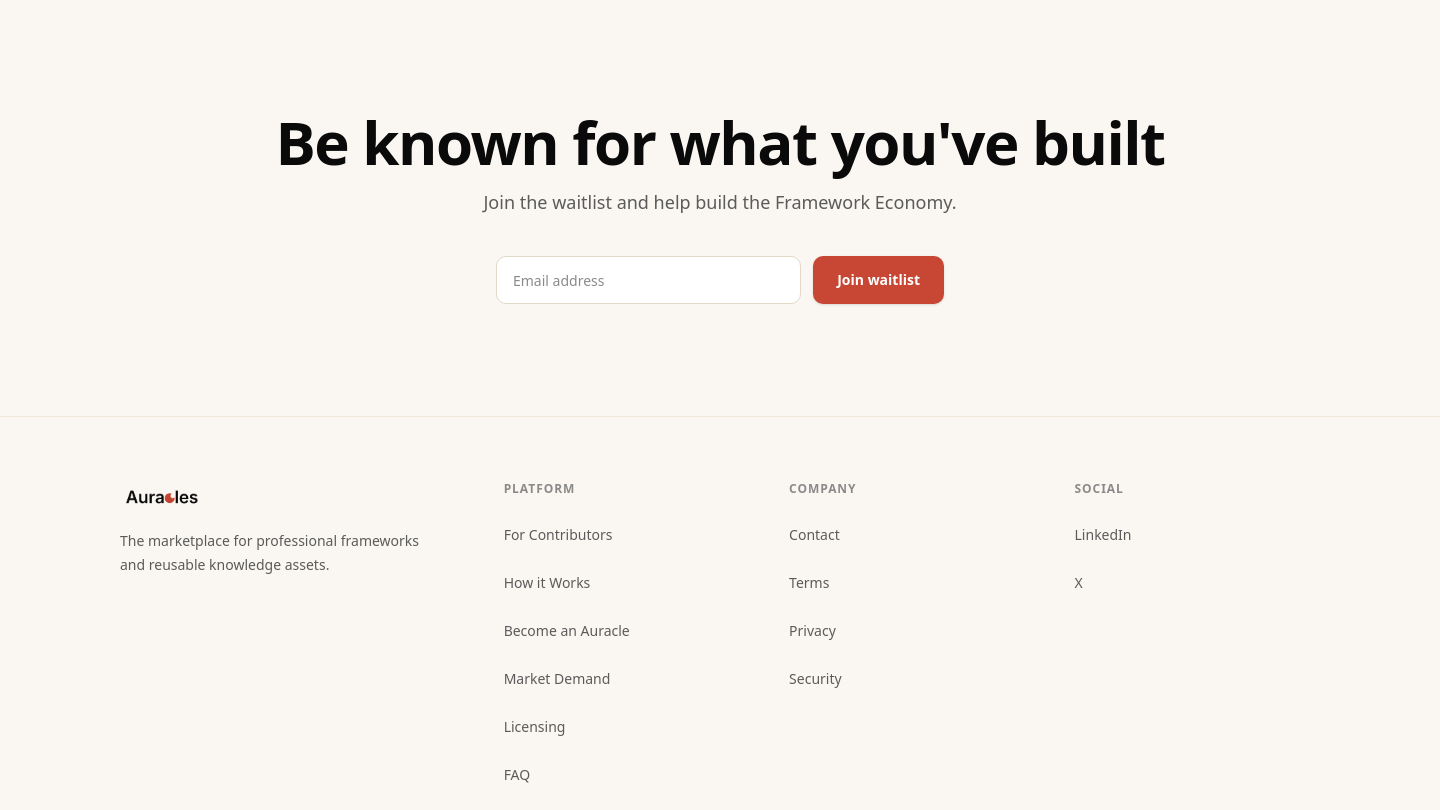
Test case: FooterCta waitlist form › shows the repeat-join state for an already-registered email
In the field labelled "Email address": (649, 280) [496,256,801,304], type "ada@example.com"
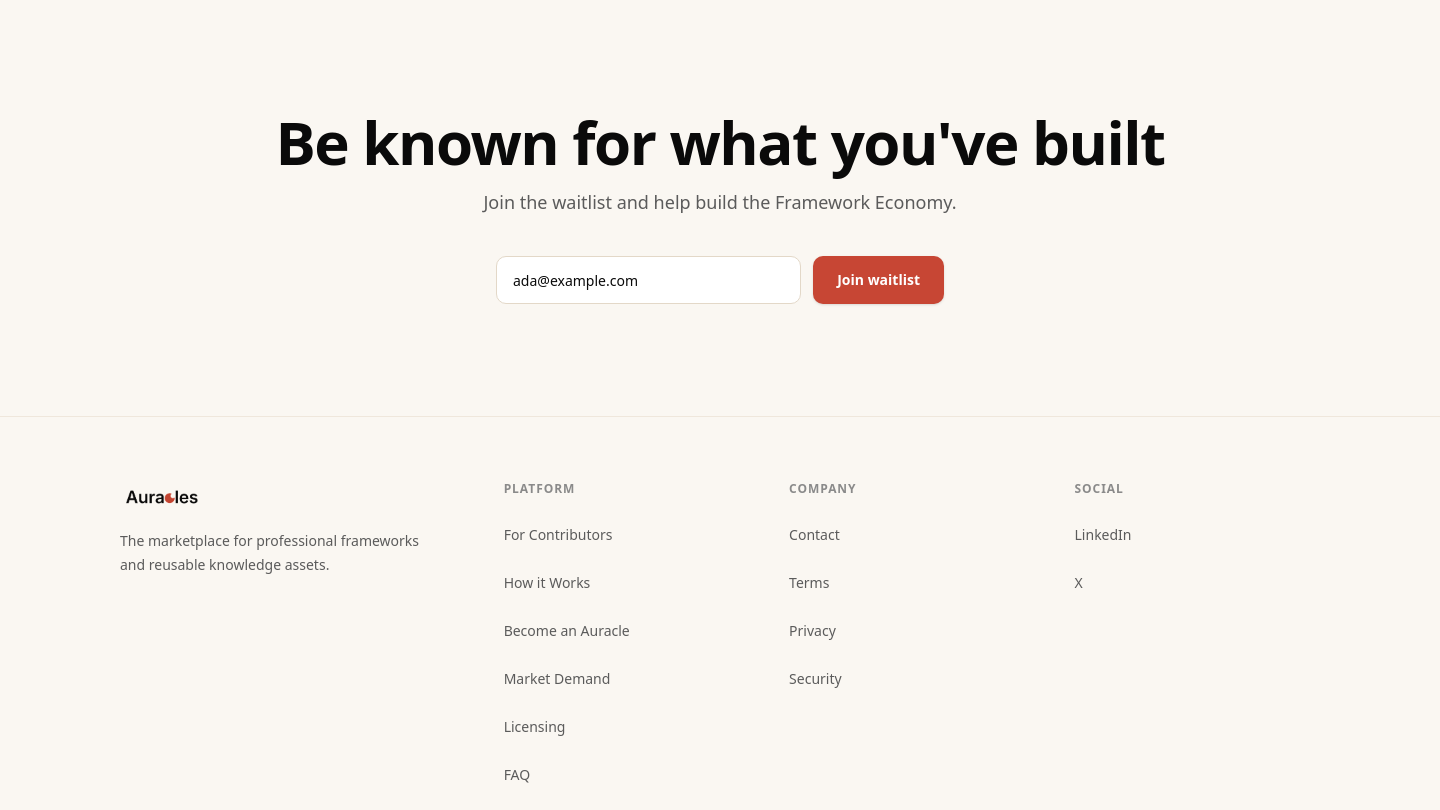
Click the button "Join waitlist": (879, 280) [813,256,944,304]
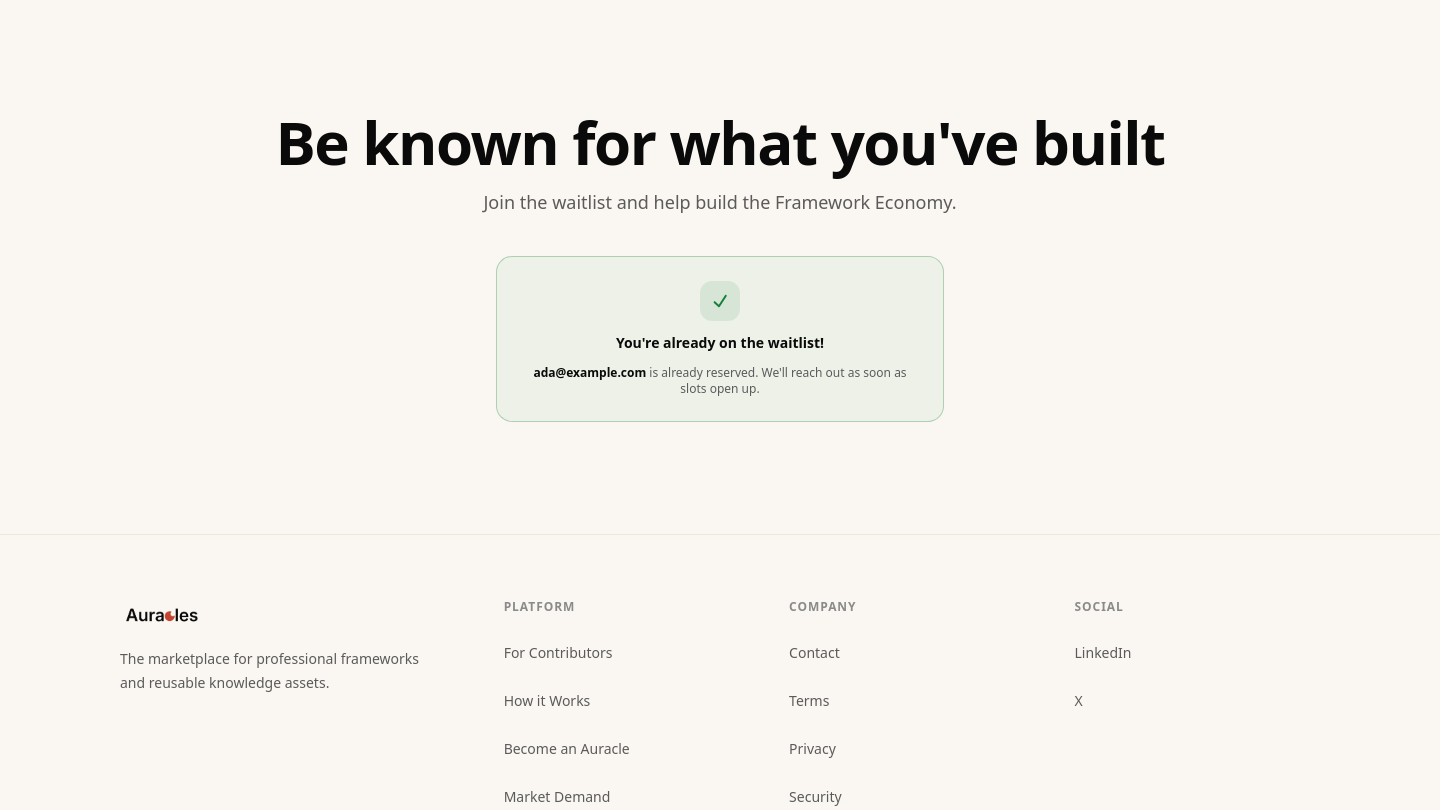
Result: the text "You're already on the waitlist!" is shown at [616,333,824,353]
